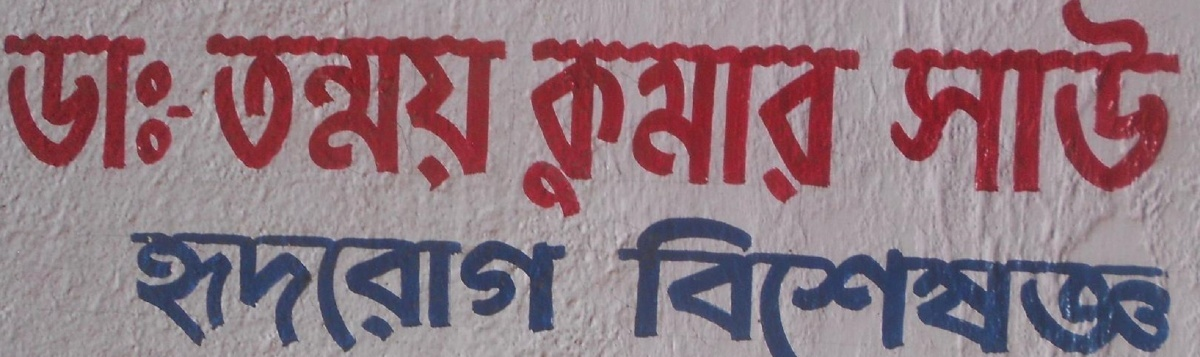text: (897, 2, 912, 197), (913, 2, 928, 197), (929, 2, 944, 197), (945, 2, 960, 197), (961, 2, 976, 197), (977, 2, 992, 197), (993, 2, 1008, 197), (1009, 2, 1024, 197), (1025, 2, 1040, 197), (1041, 2, 1056, 197), (1057, 2, 1072, 197), (1073, 2, 1088, 197), (1089, 2, 1104, 197), (1105, 2, 1120, 197), (1121, 2, 1136, 197), (1137, 2, 1152, 197), (1153, 2, 1168, 197), (545, 34, 560, 222), (561, 34, 576, 222), (577, 34, 592, 222), (593, 34, 608, 222), (609, 34, 624, 222), (625, 34, 640, 222), (641, 34, 656, 222), (657, 34, 672, 222), (673, 34, 688, 222), (689, 34, 704, 222), (705, 34, 720, 222), (721, 34, 736, 222), (737, 34, 752, 222), (753, 34, 768, 222), (769, 34, 784, 222), (785, 34, 800, 222), (801, 34, 816, 222), (817, 34, 832, 222), (833, 34, 848, 222), (530, 34, 544, 222), (849, 34, 863, 222), (497, 31, 513, 192), (209, 31, 224, 192), (225, 31, 240, 192), (241, 31, 256, 192), (257, 31, 272, 192), (273, 31, 288, 192), (289, 31, 304, 192), (305, 31, 320, 192), (321, 31, 336, 192), (337, 31, 352, 192), (353, 31, 368, 192), (369, 31, 384, 192), (385, 31, 400, 192), (401, 31, 416, 192), (417, 31, 432, 192), (433, 31, 448, 192), (449, 31, 464, 192), (465, 31, 480, 192), (481, 31, 496, 192), (1169, 2, 1181, 197), (625, 215, 640, 357), (641, 215, 656, 357), (657, 215, 672, 357), (673, 215, 688, 357), (689, 215, 704, 357), (705, 215, 720, 357), (721, 215, 736, 357), (737, 215, 752, 357), (753, 215, 768, 357), (769, 215, 784, 357), (785, 215, 800, 357), (801, 215, 816, 357), (817, 215, 832, 357), (833, 215, 848, 357), (849, 215, 864, 357), (865, 215, 880, 357), (881, 215, 896, 357), (897, 215, 912, 357), (913, 215, 928, 357), (929, 215, 944, 357), (945, 215, 960, 357), (961, 215, 976, 357), (977, 215, 992, 357), (993, 215, 1008, 357), (1009, 215, 1024, 357), (1025, 215, 1040, 357), (1041, 215, 1056, 357), (1057, 215, 1072, 357), (1073, 215, 1088, 357), (1089, 215, 1104, 357), (1105, 215, 1120, 357), (1121, 215, 1136, 357), (1137, 215, 1152, 357), (1153, 215, 1168, 357), (17, 35, 32, 172), (33, 35, 48, 172), (49, 35, 64, 172), (65, 35, 80, 172), (81, 35, 96, 172), (97, 35, 112, 172), (113, 35, 128, 172), (129, 35, 144, 172), (145, 35, 160, 172), (161, 35, 176, 172), (177, 35, 192, 172), (145, 229, 160, 353), (161, 229, 176, 353), (177, 229, 192, 353), (193, 229, 208, 353), (209, 229, 224, 353), (225, 229, 240, 353), (241, 229, 256, 353), (257, 229, 272, 353), (273, 229, 288, 353), (289, 229, 304, 353), (305, 229, 320, 353), (321, 229, 336, 353), (337, 229, 352, 353), (353, 229, 368, 353), (369, 229, 384, 353), (385, 229, 400, 353), (401, 229, 416, 353), (417, 229, 432, 353), (433, 229, 448, 353), (449, 229, 464, 353), (465, 229, 480, 353), (481, 229, 496, 353), (497, 229, 512, 353), (513, 229, 528, 353), (529, 229, 544, 353), (545, 229, 560, 353), (612, 215, 624, 357), (131, 229, 144, 353), (6, 35, 16, 172), (561, 229, 572, 353), (1169, 215, 1175, 357), (892, 2, 896, 197), (205, 31, 208, 192), (193, 35, 194, 172)
